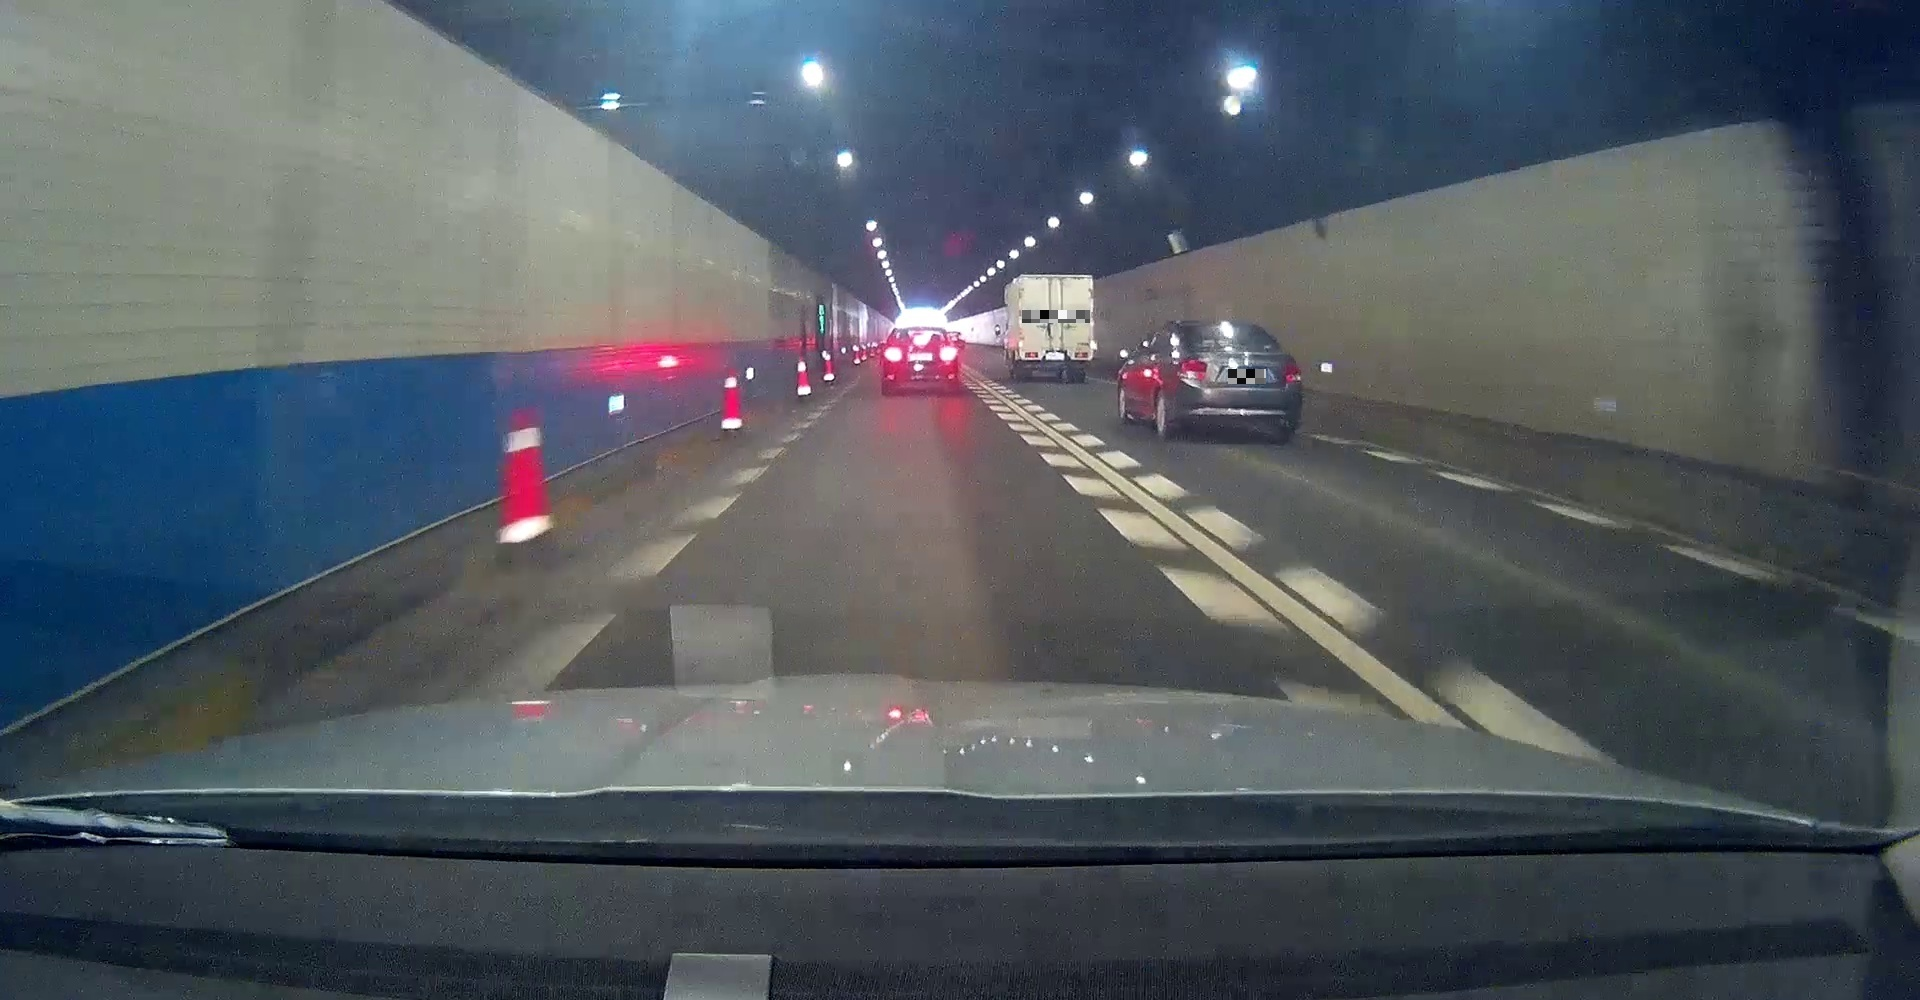L_light: (1180, 360, 1208, 379), (884, 349, 902, 360), (1025, 352, 1037, 358)
R_light: (1284, 360, 1302, 382), (940, 349, 956, 360), (1076, 352, 1088, 358)
T_light: (1217, 326, 1234, 330), (914, 329, 924, 332), (1050, 278, 1062, 280)
day-no: (1175, 321, 1303, 442), (1016, 274, 1095, 382), (881, 326, 959, 395)
plate_1: (1022, 310, 1090, 324)
plate_2: (1228, 369, 1266, 385)
